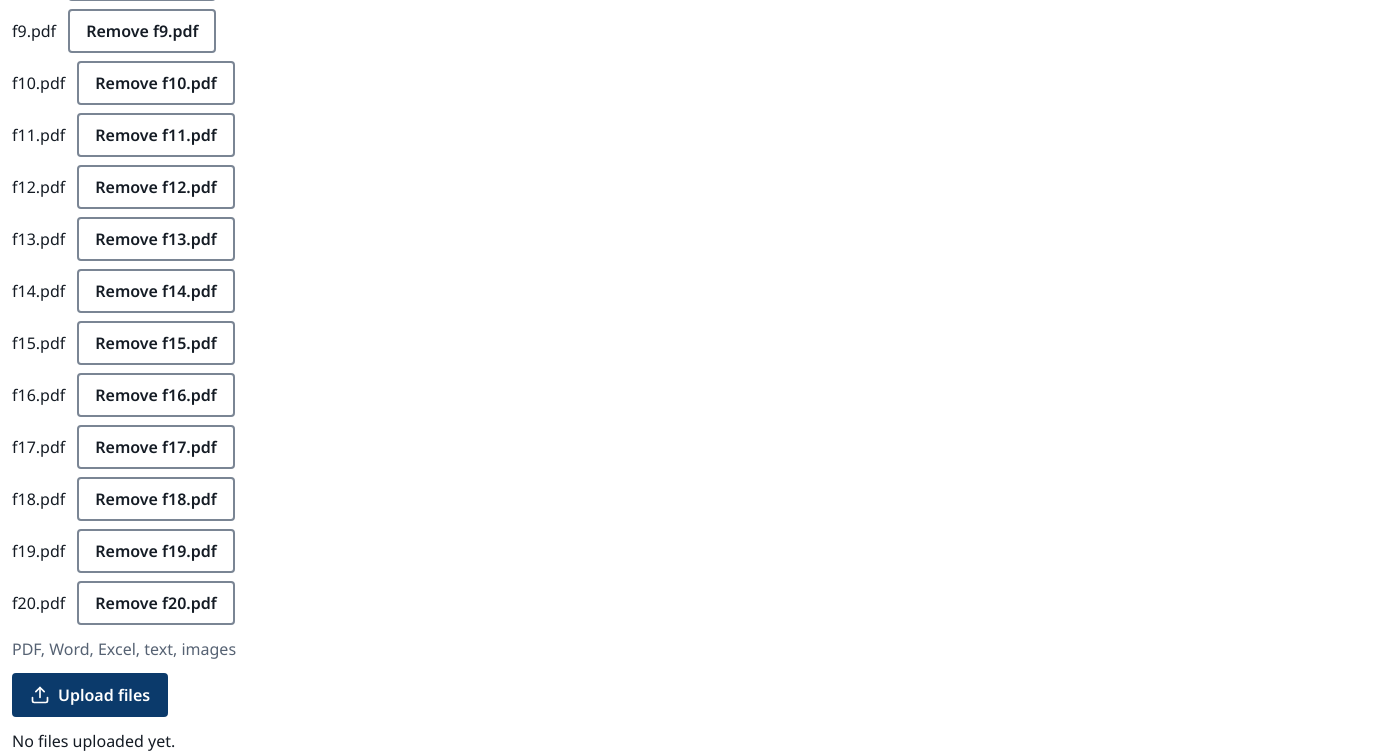
Test: more than 20 files is refused before sending
Earlier steps of the test are not shown.
(page scrolled)
Click the button "Upload files": (90, 695) x1=12 y1=673 x2=168 y2=717
(page scrolled)
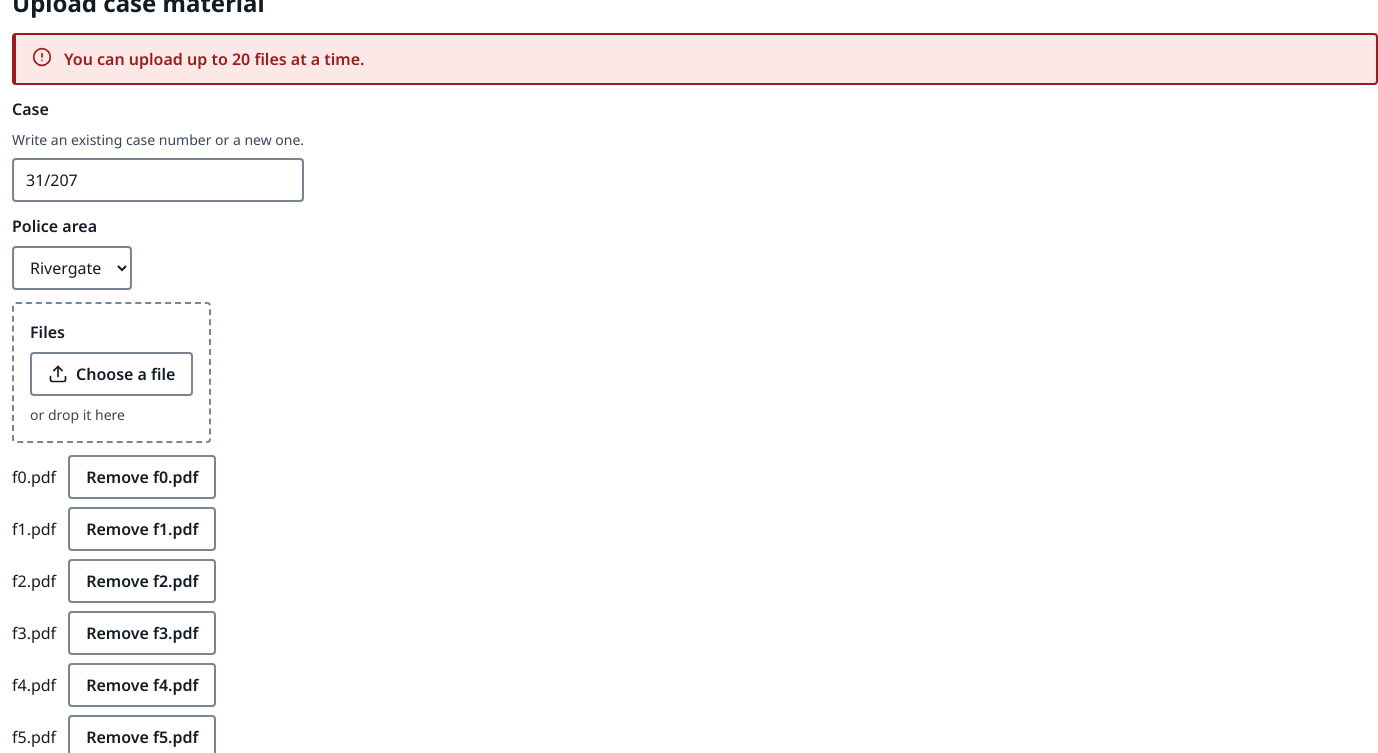
Result: the text "You can upload up to 20 files at a time." is shown at x1=64 y1=48 x2=364 y2=70
